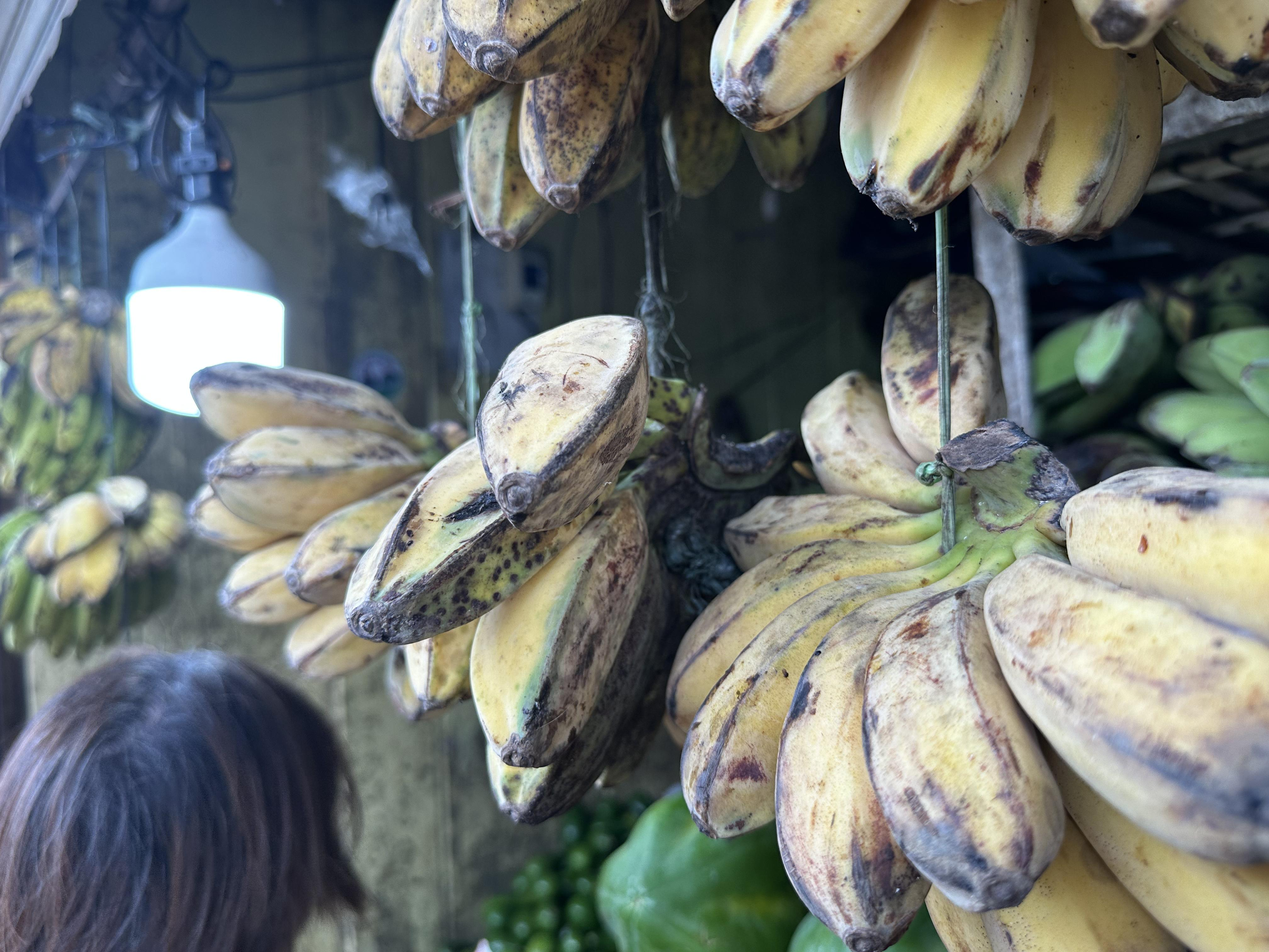ripe: (669, 276, 1268, 948), (710, 0, 1269, 244), (190, 363, 428, 678), (371, 0, 660, 250)
underripe: (344, 315, 677, 823)
